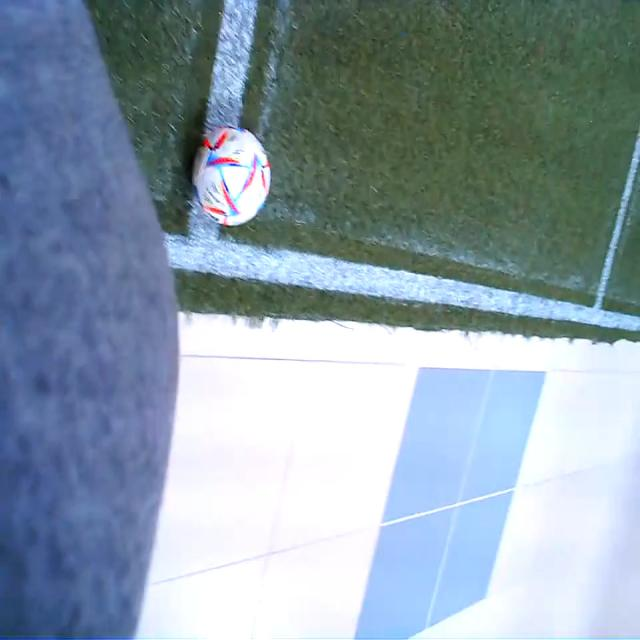ball: (195, 126, 270, 227)
